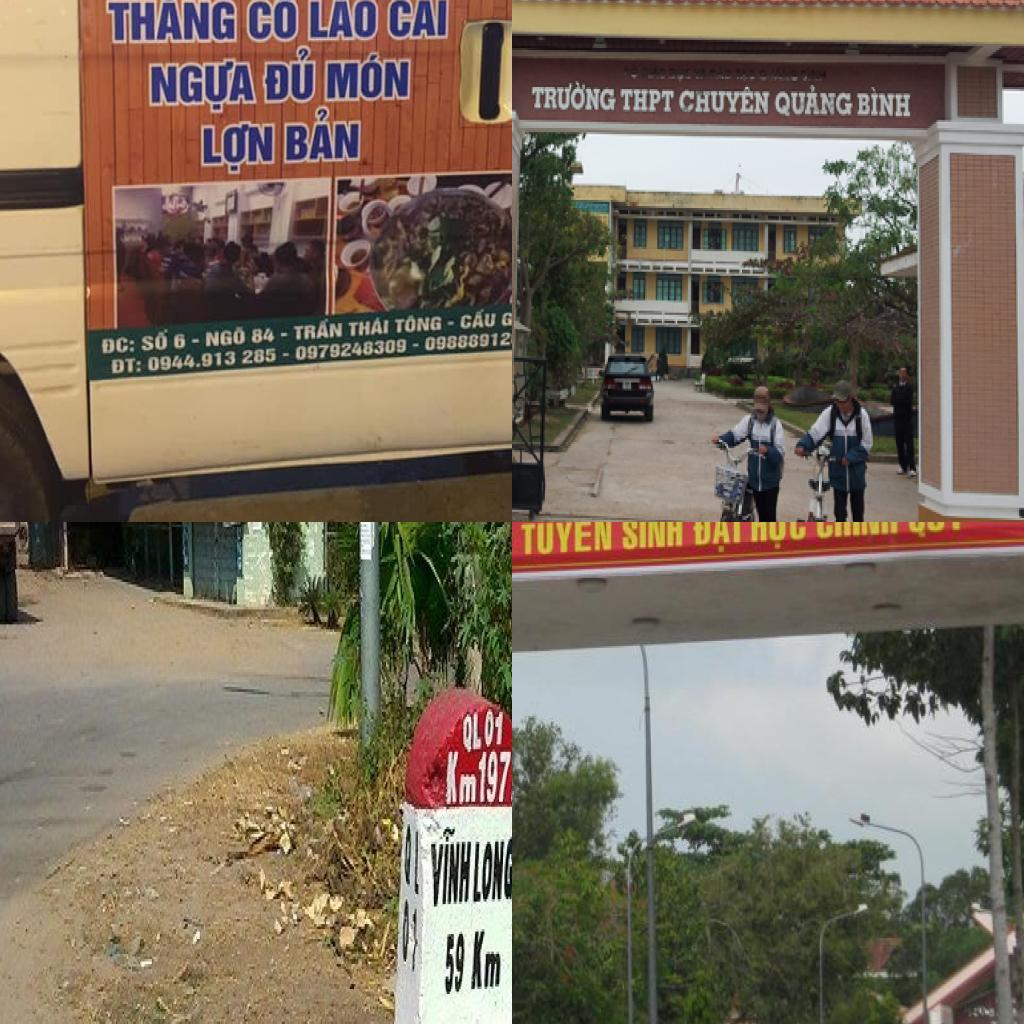text: (146, 56, 260, 114), (104, 0, 240, 47), (322, 52, 413, 106), (282, 107, 364, 165), (200, 120, 276, 178), (427, 826, 474, 912), (145, 346, 279, 374), (530, 77, 618, 118), (516, 522, 615, 557), (260, 46, 316, 107), (677, 85, 773, 120), (306, 0, 378, 44), (472, 834, 512, 909), (294, 337, 409, 363), (773, 85, 854, 120), (386, 0, 450, 43), (242, 0, 302, 44), (422, 328, 512, 354), (854, 85, 914, 120), (476, 751, 512, 809), (619, 85, 676, 118), (690, 522, 743, 557), (815, 522, 902, 543), (446, 752, 478, 809), (620, 522, 685, 550), (749, 522, 809, 552), (400, 894, 420, 979), (443, 932, 467, 1002), (402, 819, 422, 899), (291, 318, 345, 344), (394, 312, 443, 337), (904, 522, 968, 540), (346, 316, 392, 340), (204, 325, 248, 350), (459, 306, 498, 333), (484, 707, 506, 752), (99, 332, 138, 357), (463, 712, 483, 757), (139, 328, 170, 354), (112, 356, 144, 377), (251, 324, 277, 348), (499, 304, 512, 330), (173, 332, 188, 352), (445, 319, 457, 329), (190, 336, 201, 346), (281, 350, 291, 359), (280, 332, 289, 340), (412, 342, 421, 350)
